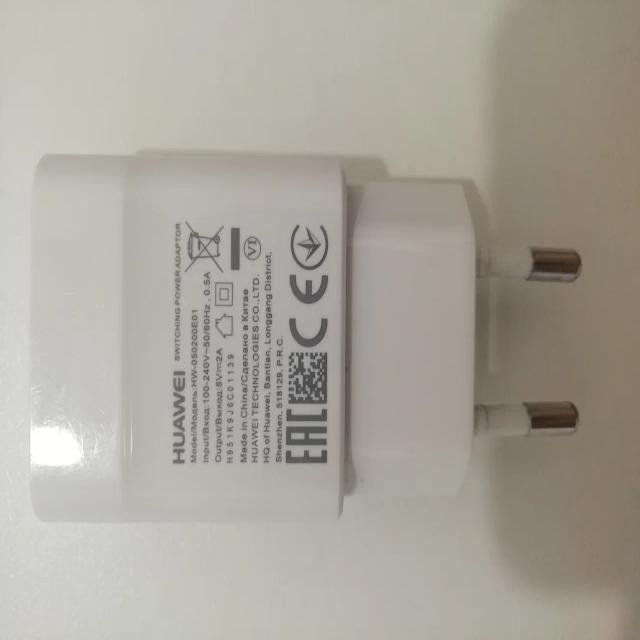datamatrix: (288, 351, 330, 407)
